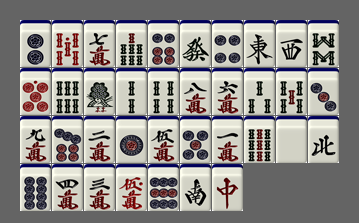0m: (116, 164, 147, 211)
0p: (20, 68, 51, 115)
0s: (52, 20, 83, 67)
1m: (212, 116, 243, 163)
1p: (116, 116, 147, 163)
1s: (84, 68, 115, 115)
1z: (244, 20, 275, 67)
2m: (84, 116, 115, 163)
2p: (20, 20, 51, 67)
2s: (116, 68, 147, 115)
2z: (180, 164, 211, 211)
3m: (84, 164, 115, 211)
3p: (308, 68, 339, 115)
3s: (244, 68, 275, 115)
3z: (276, 20, 307, 67)
4m: (52, 164, 83, 211)
4p: (212, 20, 243, 67)
4s: (148, 68, 179, 115)
4z: (308, 116, 339, 163)
5m: (148, 116, 179, 163)
5p: (180, 116, 211, 163)
5s: (276, 68, 307, 115)
5z: (276, 116, 307, 163)
6m: (212, 68, 243, 115)
6p: (148, 20, 179, 67)
6s: (52, 68, 83, 115)
6z: (180, 20, 211, 67)
7m: (84, 20, 115, 67)
7p: (52, 116, 83, 163)
7s: (116, 20, 147, 67)
7z: (212, 164, 243, 211)
8m: (180, 68, 211, 115)
8p: (20, 164, 51, 211)
8s: (308, 20, 339, 67)
9m: (20, 116, 51, 163)
9p: (148, 164, 179, 211)
9s: (244, 116, 275, 163)
